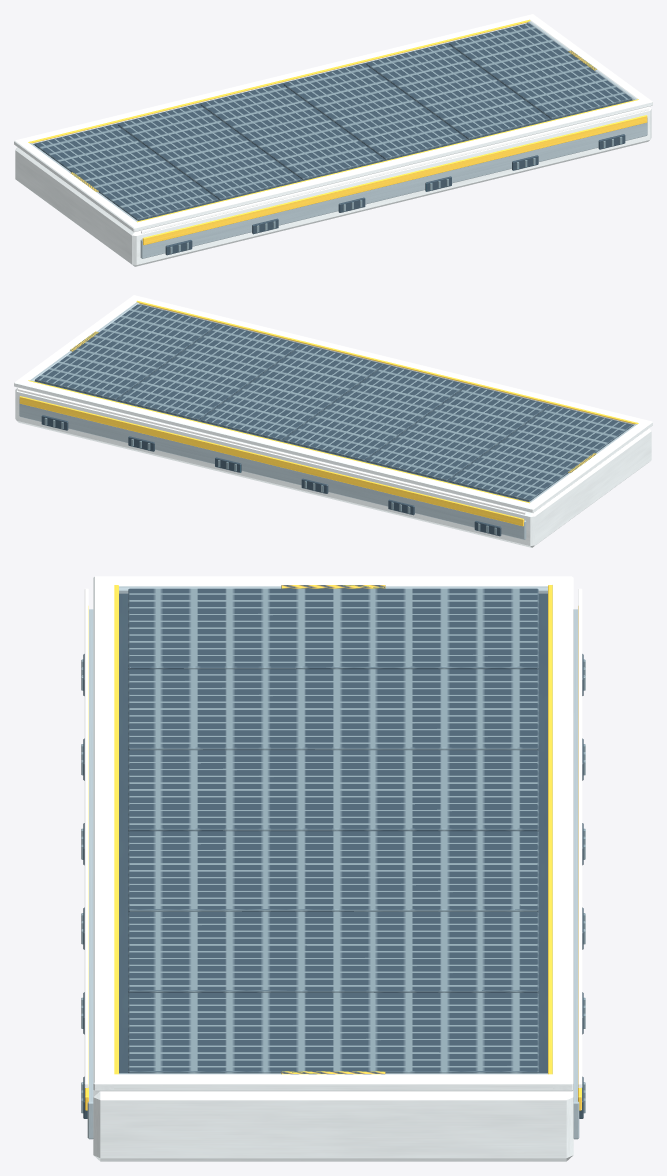
The model's file is bridge-grate-6m.glb.
The picture shows the model from 3 angles, top to bottom: view 1: azimuth 30°, elevation 25°; view 2: azimuth 150°, elevation 25°; view 3: azimuth 270°, elevation 25°; orthographic projection. The views are drawn at different scales.
Visible parts, largest first — view 1: bridge-grate-6m; view 2: bridge-grate-6m; view 3: bridge-grate-6m.
Boxes of the visible parts, x1,y1,x2,y2 form: bridge-grate-6m: (14,14,652,266); bridge-grate-6m: (14,295,652,547); bridge-grate-6m: (81,576,585,1161).
Bounding box in the file's own units: 6 × 0.6075 × 2.52.
Materials: 1 (1 with a texture image).
